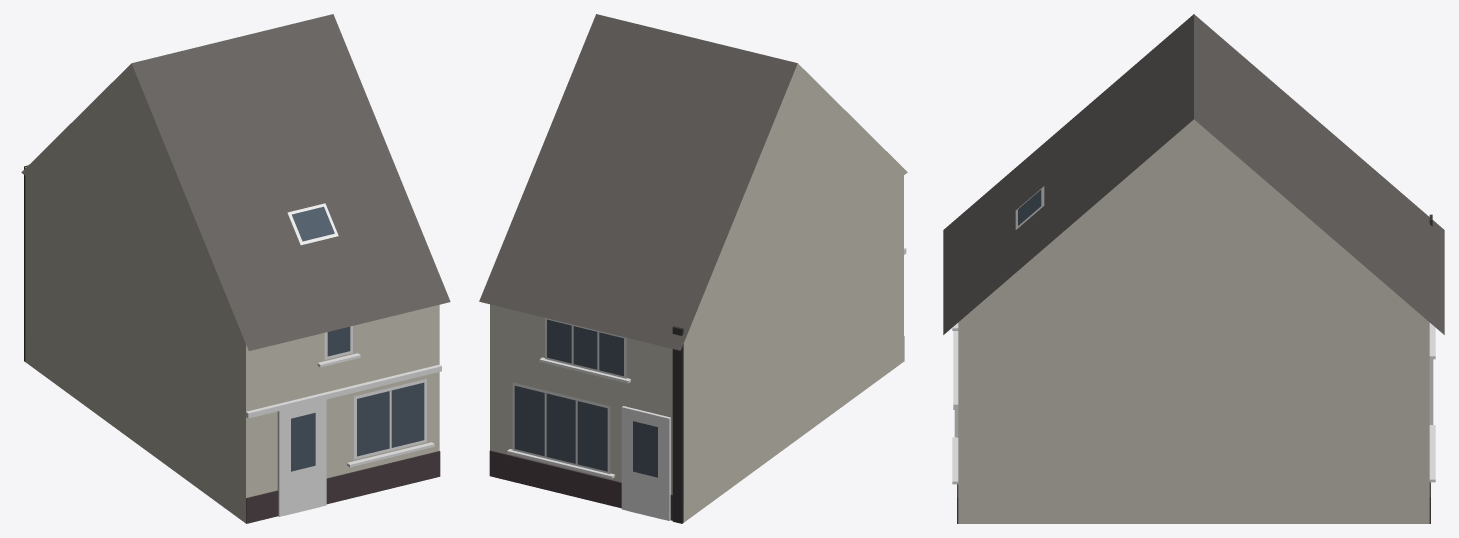
The model's file is nw-ee-band-row__band__2__gable__long__solid__f0d0__mirror.glb.
3 renders of one model, left to right at view 1: azimuth 30°, elevation 25°; view 2: azimuth 150°, elevation 25°; view 3: azimuth 270°, elevation 25°, orthographic. The views are drawn at different scales.
Visible parts, largest first — view 1: nw-ee-band-row__band__2__gable__long__solid__f0d0__mirror; view 2: nw-ee-band-row__band__2__gable__long__solid__f0d0__mirror; view 3: nw-ee-band-row__band__2__gable__long__solid__f0d0__mirror.
Part boxes in pixels (x1=…): nw-ee-band-row__band__2__gable__long__solid__f0d0__mirror: x1=21, y1=14, x2=450, y2=523; nw-ee-band-row__band__2__gable__long__solid__f0d0__mirror: x1=479, y1=14, x2=907, y2=523; nw-ee-band-row__band__2__gable__long__solid__f0d0__mirror: x1=943, y1=14, x2=1444, y2=523.
Bounding box in the file's own units: 4.99 × 8.99 × 10.04.
